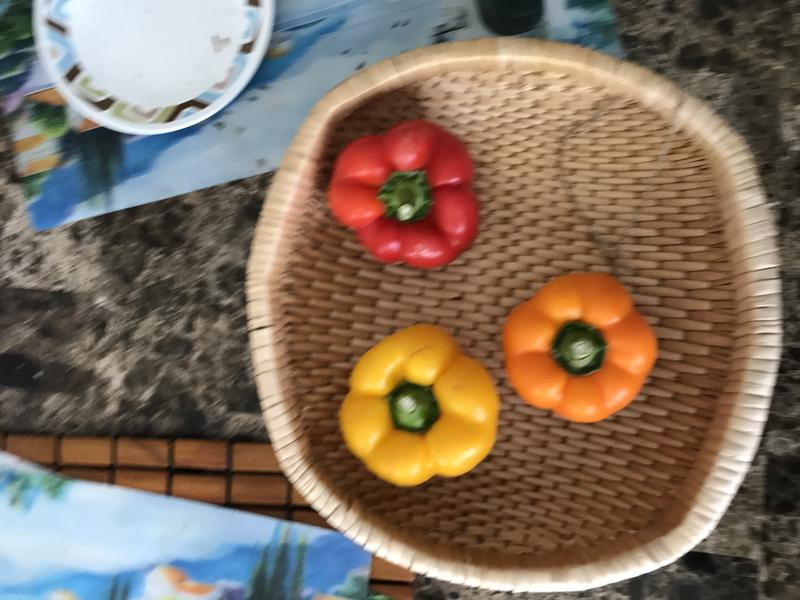orange_pepper: (498, 265, 661, 431)
red_pepper: (323, 115, 485, 272)
yellow_pepper: (335, 318, 508, 491)
